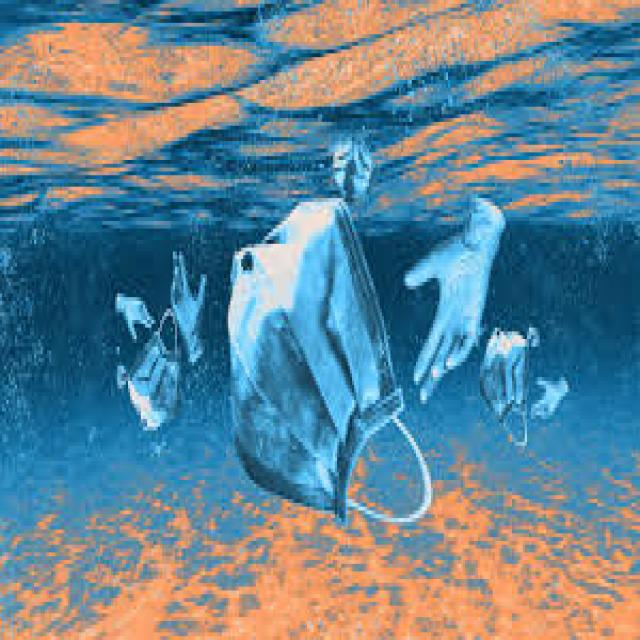mask: (216, 179, 442, 556), (114, 315, 190, 446), (472, 322, 538, 461)
